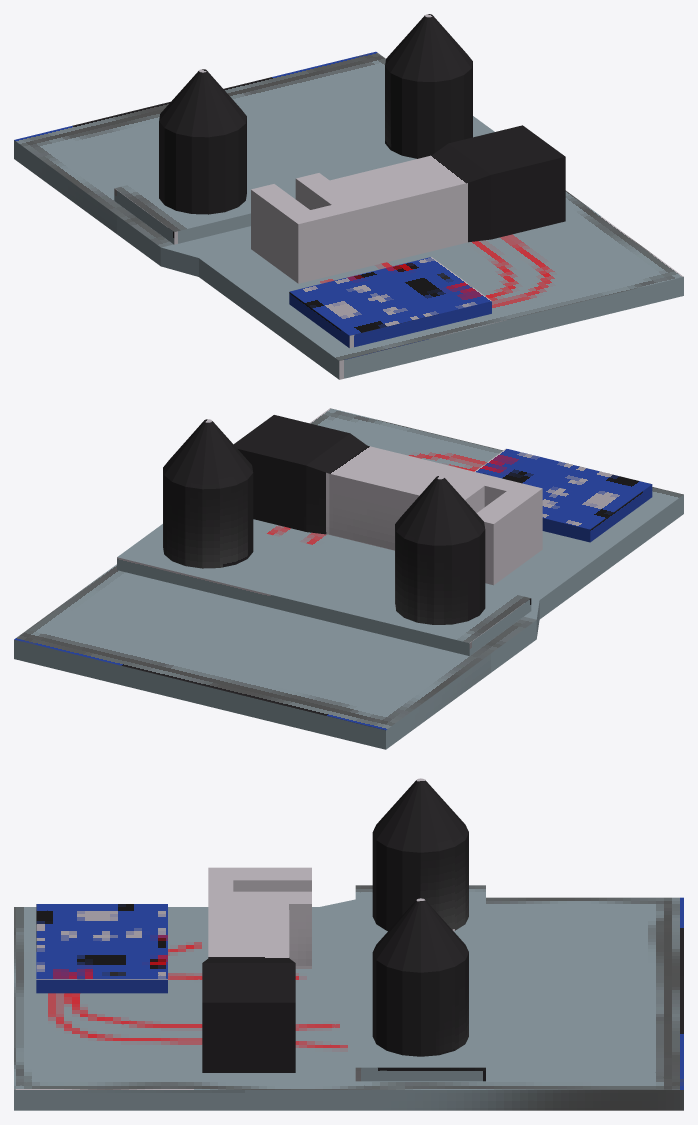
File: HolderSpikes.glb
3 renders of one model, top to bottom at view 1: azimuth 30°, elevation 25°; view 2: azimuth 150°, elevation 25°; view 3: azimuth 270°, elevation 25°, orthographic. The views are drawn at different scales.
Visible parts, largest first — view 1: HolderSpikes; view 2: HolderSpikes; view 3: HolderSpikes.
Part boxes in pixels (<box>): HolderSpikes: <box>14,14,683,379</box>; HolderSpikes: <box>14,408,683,749</box>; HolderSpikes: <box>14,778,683,1110</box>.
Bounding box in the file's own units: 0.3392 × 0.1431 × 0.4993.
Materials: 1 (1 with a texture image).
